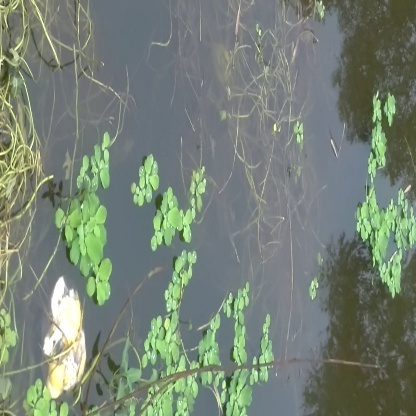leaf: (127, 153, 162, 206)
